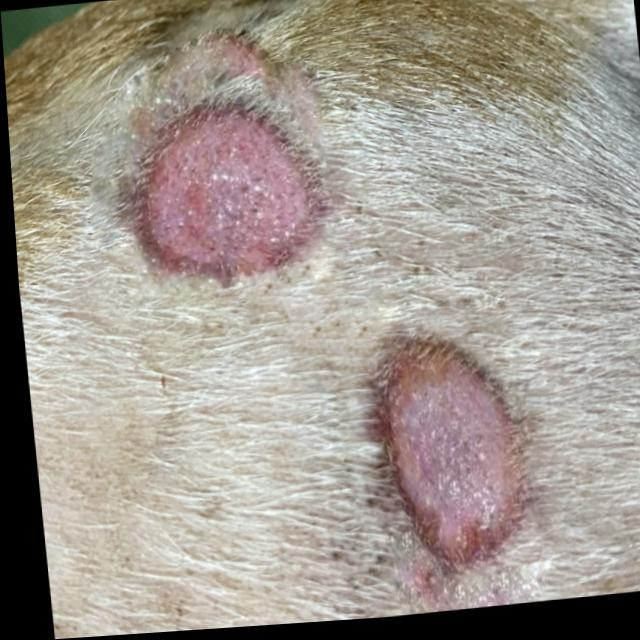ringworm: (331, 312, 546, 598), (102, 88, 321, 302)
